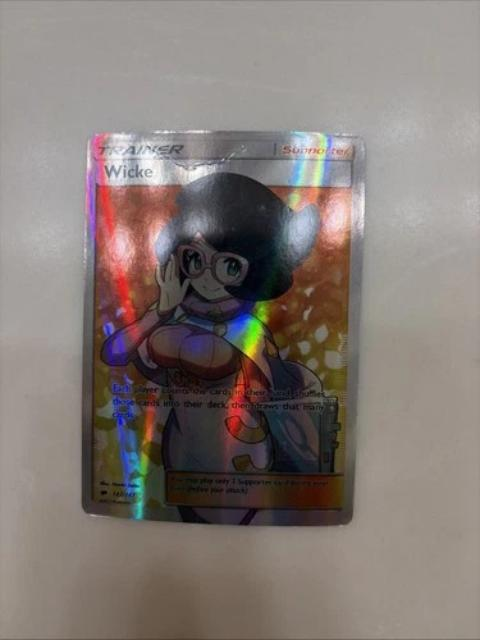Card: (74, 120, 366, 530)
Name: (97, 156, 152, 183)
